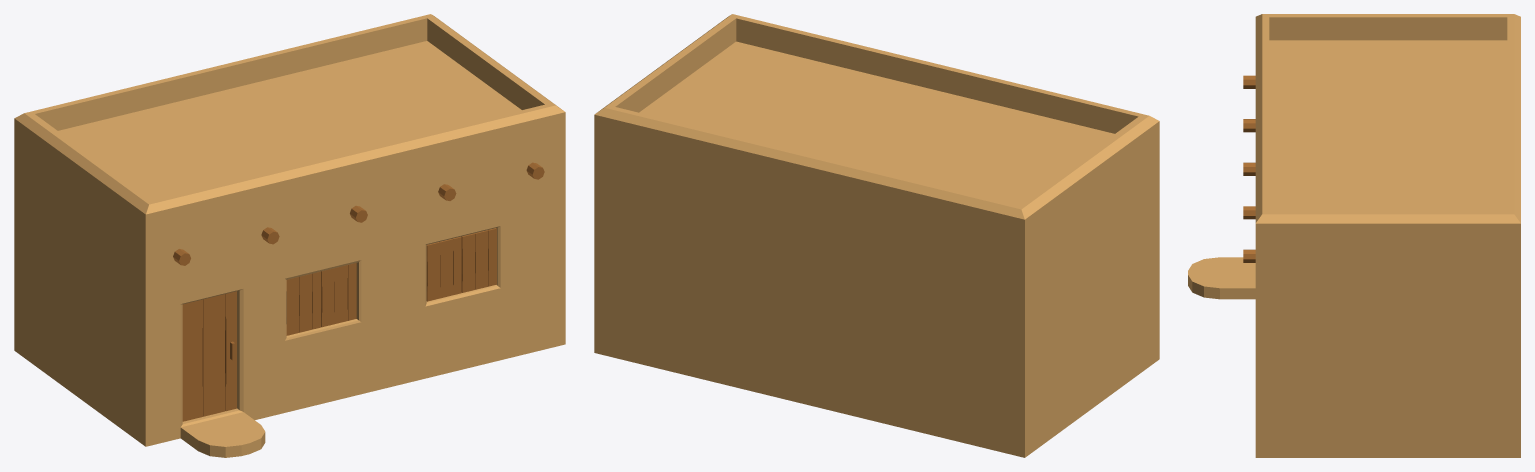
Rendered from Temple2.fbx.
3 views of the same model, side by side, from view 1: azimuth 30°, elevation 25°; view 2: azimuth 150°, elevation 25°; view 3: azimuth 270°, elevation 25° (orthographic). The views are drawn at different scales.
Visible parts, largest first — view 1: Temple 2; view 2: Temple 2; view 3: Temple 2.
Part boxes in pixels (<box>): Temple 2: <box>14,14,565,457</box>; Temple 2: <box>594,14,1159,457</box>; Temple 2: <box>1188,14,1520,457</box>.
Size of the model in its own units: 1106 by 753 by 600.
